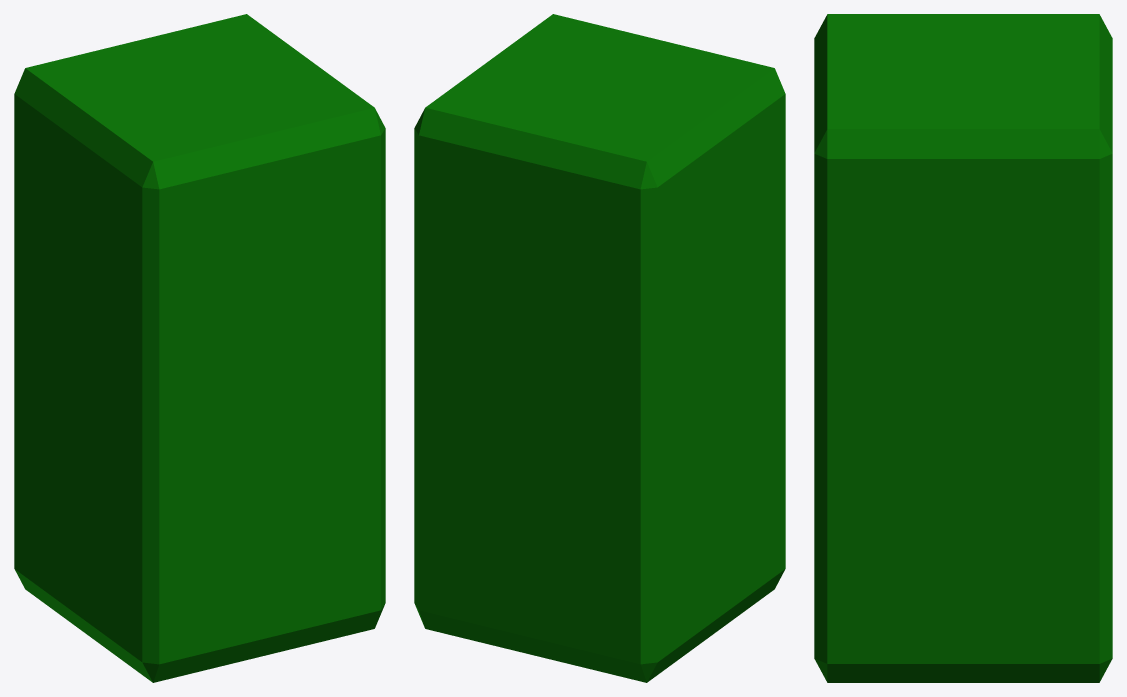
The model's file is green_block.glb.
3 renders of one model, left to right at view 1: azimuth 30°, elevation 25°; view 2: azimuth 150°, elevation 25°; view 3: azimuth 270°, elevation 25°, orthographic. The views are drawn at different scales.
Visible parts, largest first — view 1: Cube; view 2: Cube; view 3: Cube.
Part boxes in pixels (bbox=[...]): Cube: bbox=[14, 14, 385, 682]; Cube: bbox=[414, 14, 785, 682]; Cube: bbox=[814, 14, 1112, 682].
Bounding box in the file's own units: 2 × 4.1 × 2.
